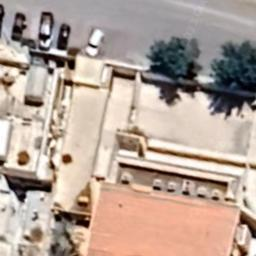SUV: (84, 27, 106, 58)
sedan: (56, 23, 72, 50), (10, 12, 25, 40)
van: (38, 12, 54, 52)
